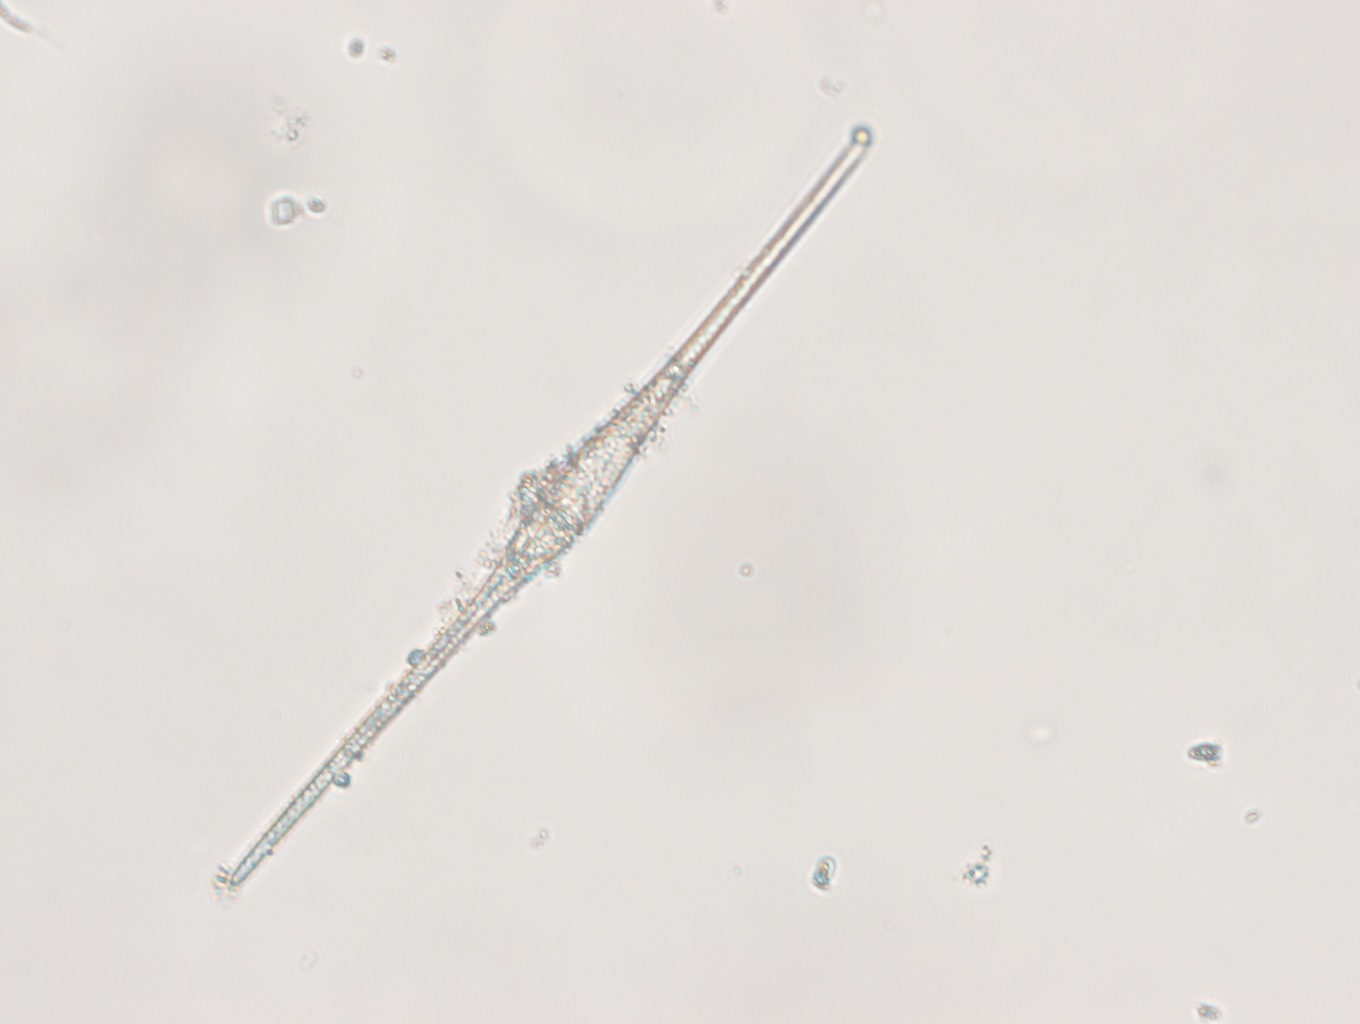ceratium fusus: (223, 115, 874, 897)
